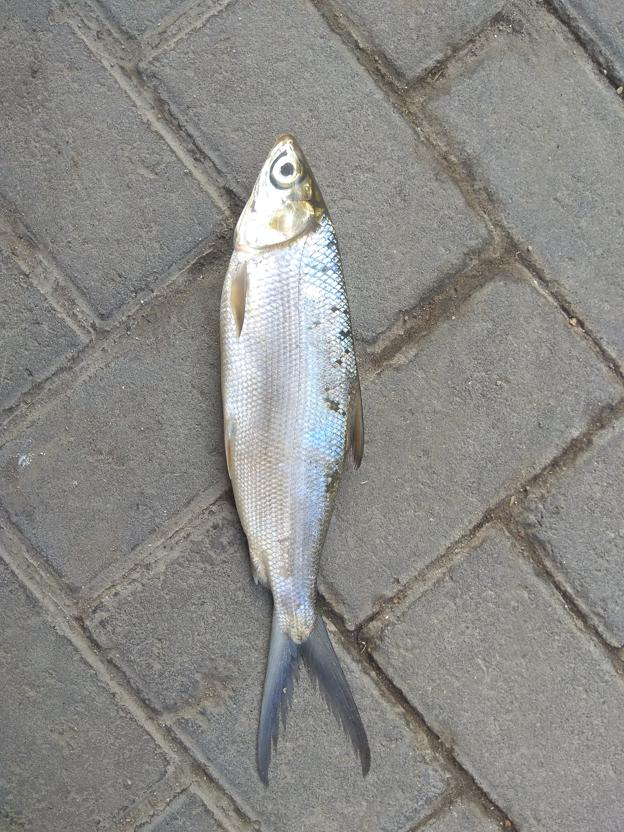Fish head: (229, 134, 330, 253)
Fish tail: (254, 611, 373, 793)
